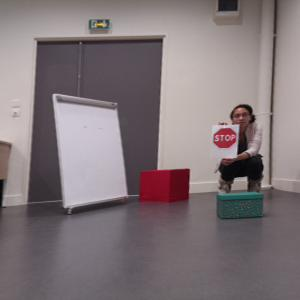big: (52, 93, 130, 212)
medium: (139, 169, 191, 204)
small: (215, 192, 264, 219)
